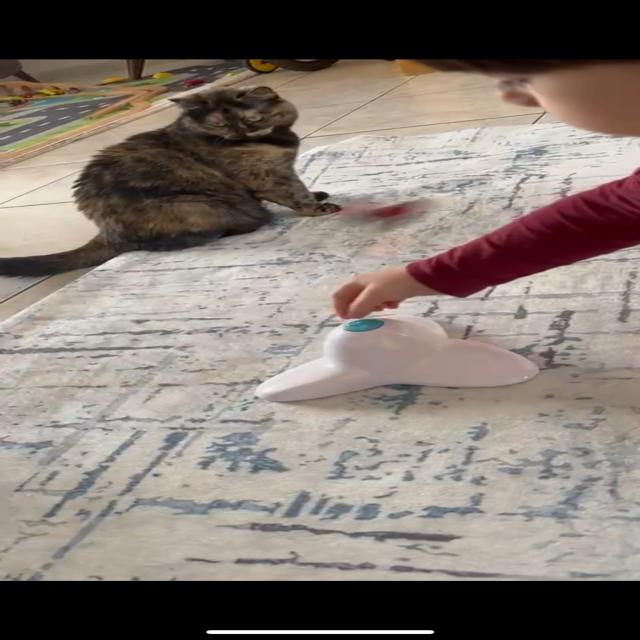authorized: (1, 84, 342, 279)
